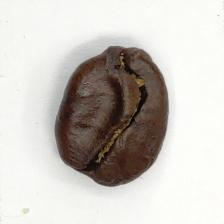NG: (82, 63, 153, 151)
